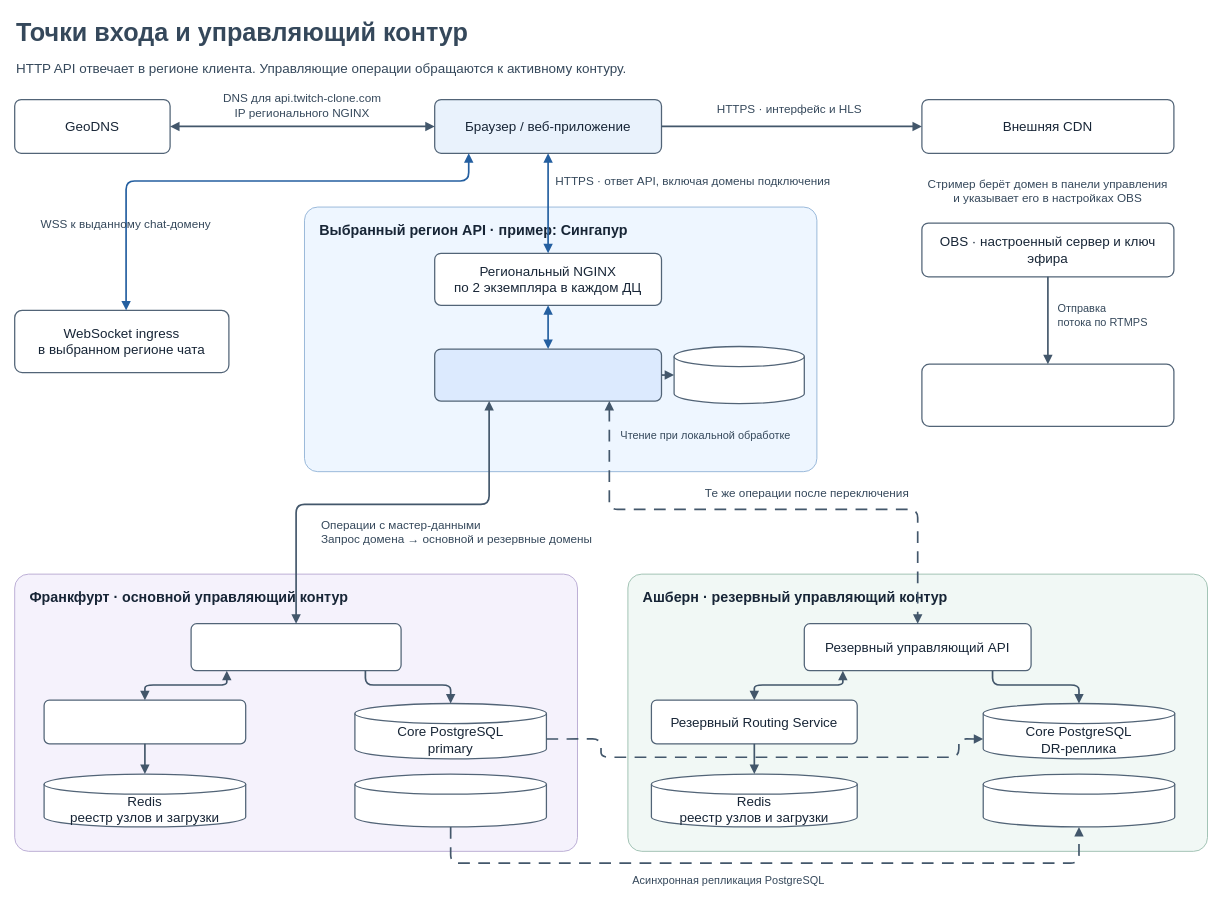
The diagram is 1223 pixels wide and 904 high, and some of its shapes have lost their labels. Each missing label, with the centre of its shape:
Chat Master PostgreSQL DR-реплика: (x=1078, y=800)
Chat Master PostgreSQL история чата · §10.2: (x=450, y=800)
Redis локальный кеш: (x=739, y=374)
Routing Service: (x=144, y=721)
Региональное приложение API: (x=548, y=374)
Региональный сервер приёма эфира: (x=1047, y=395)
Управляющий API: (x=295, y=647)
